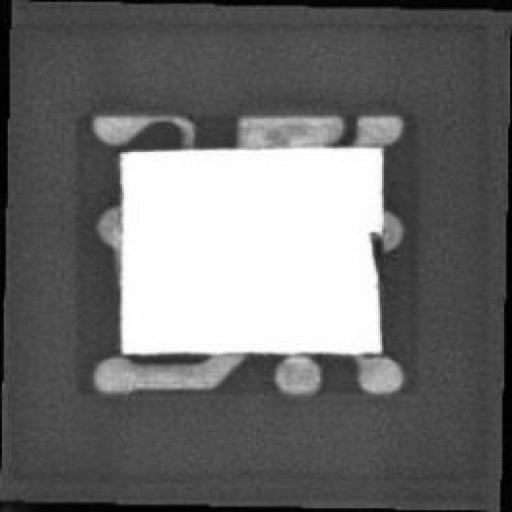DIE_BROKEN: (365, 224, 380, 271)
